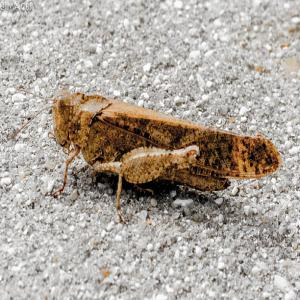locust: (28, 78, 293, 233)
